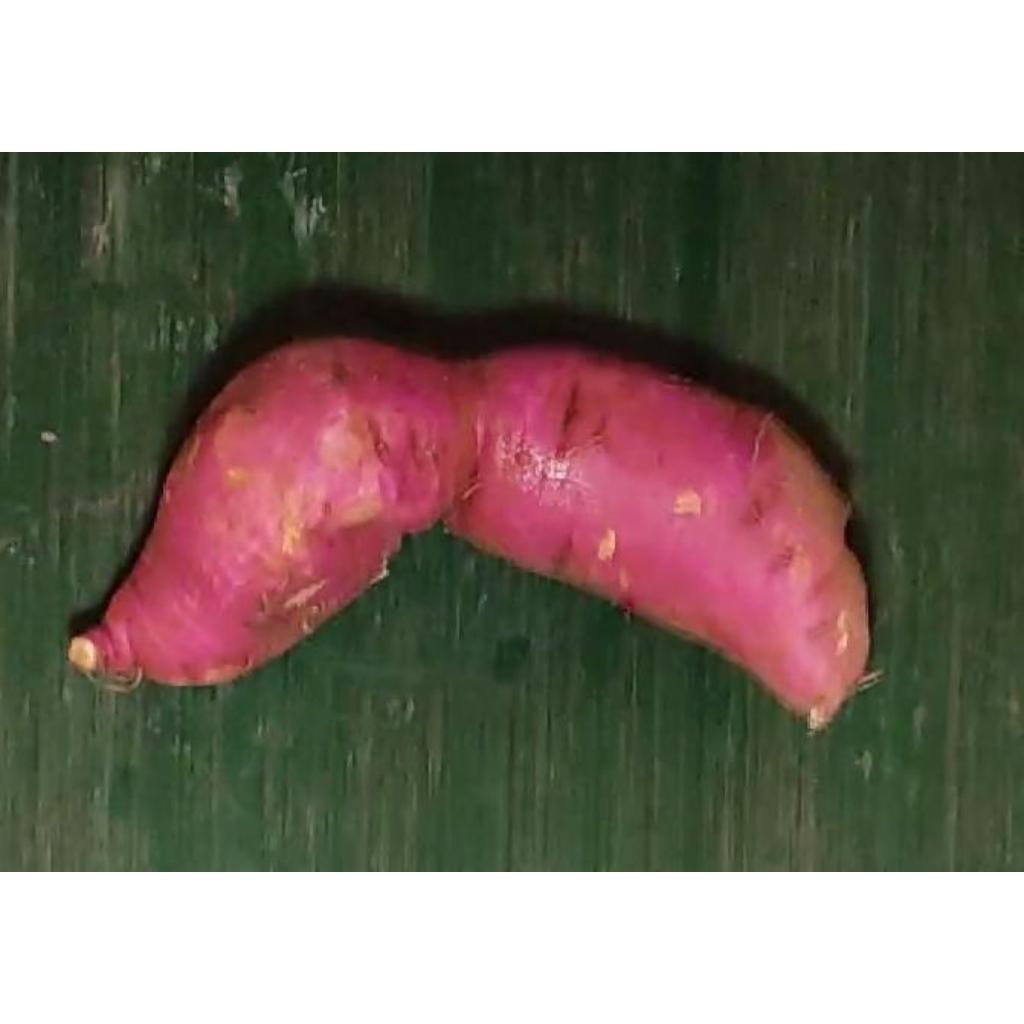Sweet Potato: (64, 334, 877, 735)
